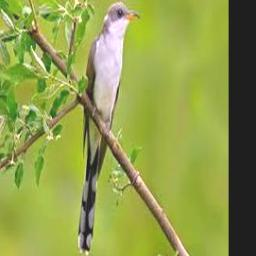Cuckoo: (77, 2, 140, 255)
